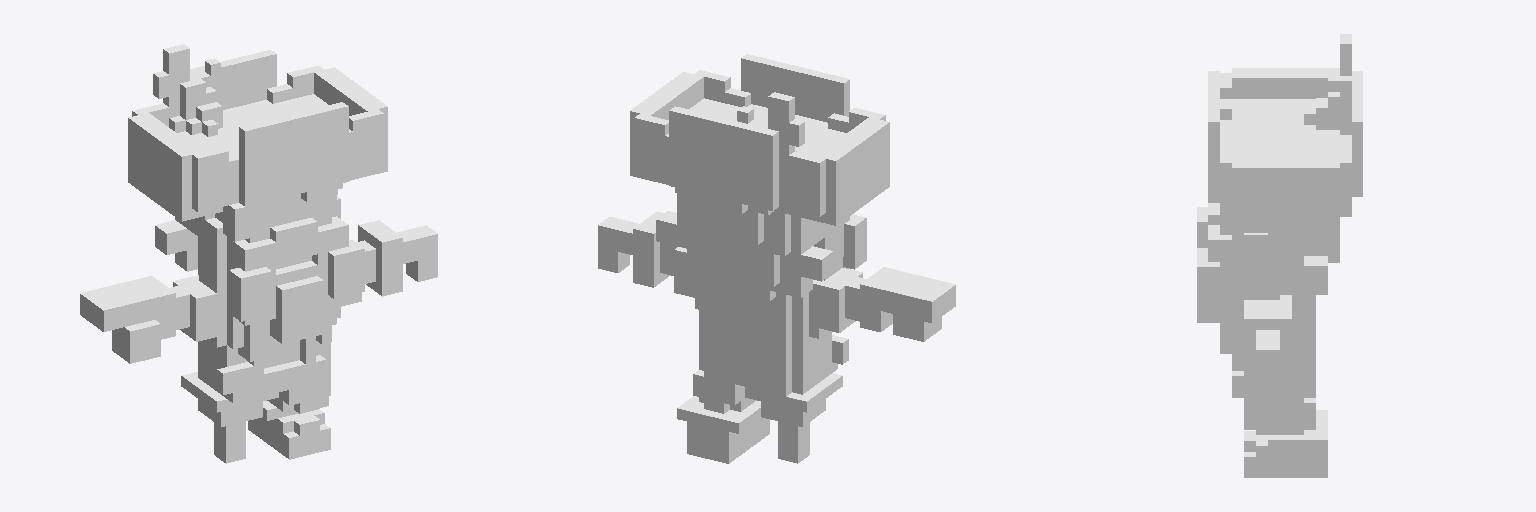
File: chr_pirate_01.obj
3 renders of one model, left to right at view 1: azimuth 30°, elevation 25°; view 2: azimuth 150°, elevation 25°; view 3: azimuth 270°, elevation 25°, orthographic.
Bounding box in the file's own units: 33 × 36 × 14.